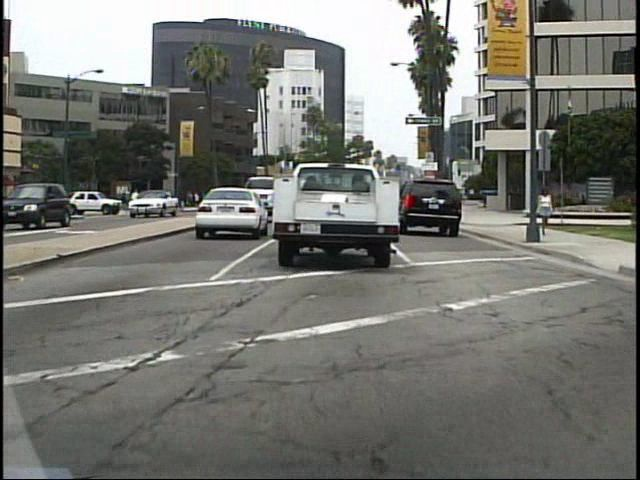person: (536, 183, 556, 243), (122, 191, 130, 214), (135, 187, 138, 213)
